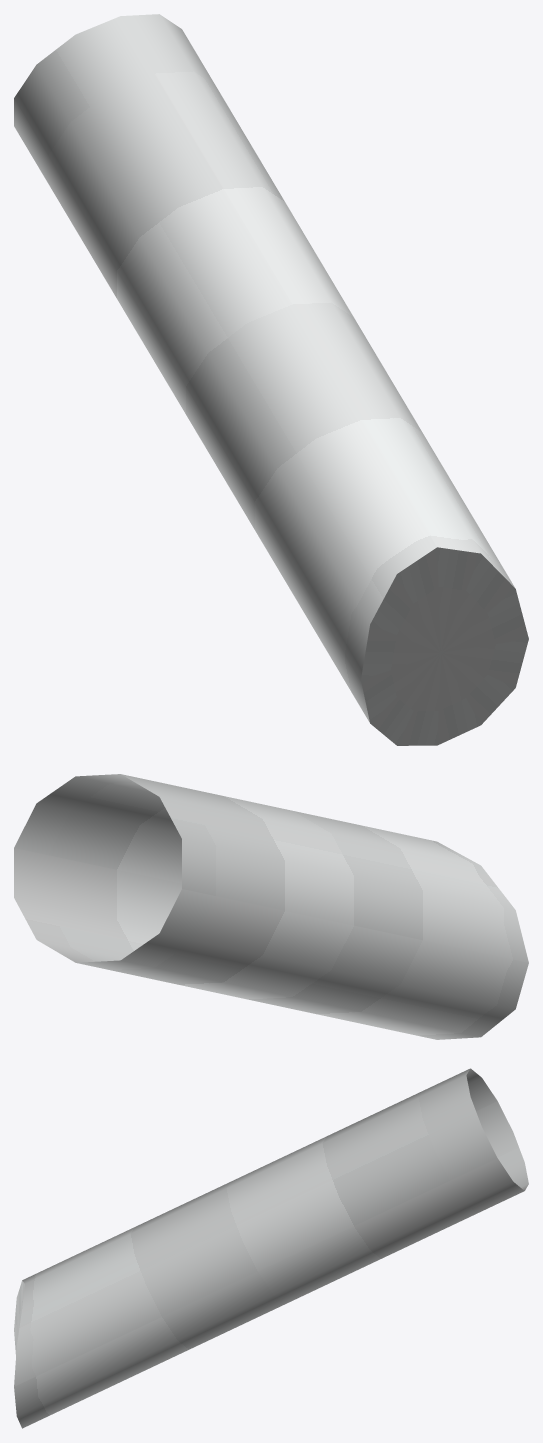
The model's file is luminairearm_truss15ftdouble_c1_thin.obj.
The picture shows the model from 3 angles, top to bottom: view 1: azimuth 30°, elevation 25°; view 2: azimuth 150°, elevation 25°; view 3: azimuth 270°, elevation 25°; orthographic projection. The views are drawn at different scales.
Parts seen in each view (by area): view 1: luminairearm_truss15ftdouble_c1_thin; view 2: luminairearm_truss15ftdouble_c1_thin; view 3: luminairearm_truss15ftdouble_c1_thin.
Boxes of the visible parts, x1,y1,x2,y2 form: luminairearm_truss15ftdouble_c1_thin: [14, 14, 528, 745]; luminairearm_truss15ftdouble_c1_thin: [14, 774, 528, 1039]; luminairearm_truss15ftdouble_c1_thin: [14, 1068, 528, 1428].
Size of the model in its own units: 0.1562 by 0.4421 by 0.5946.
